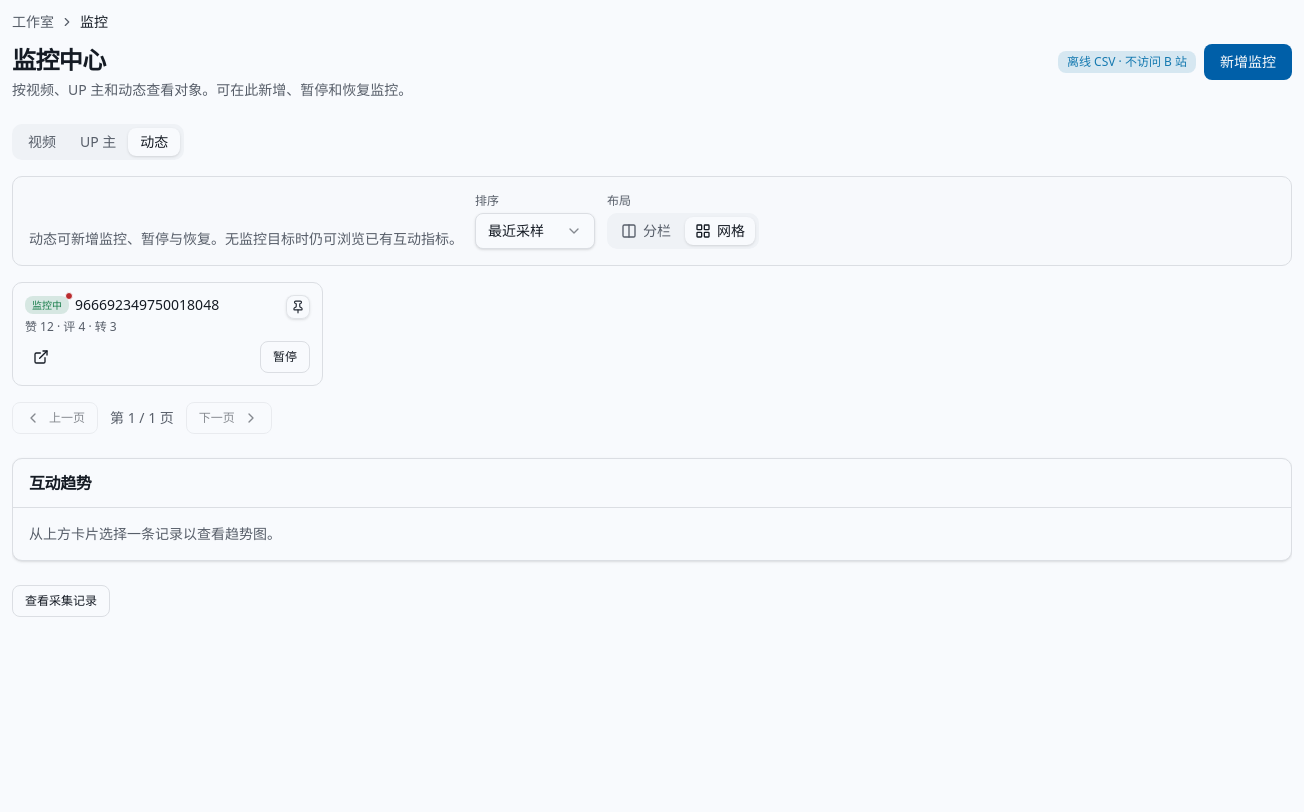
Test: dynamic monitor page › detail page shows recent collect logs from the ops read API
The image size is (1304, 812).
Expected: the element with test id "dynamic-card-failure-dot" is shown, [65, 292, 73, 300]
Expected: the button "监控详情" is not shown
Click the button with aria-label "打开动态". click: (47, 305)
box: [12, 282, 323, 386]
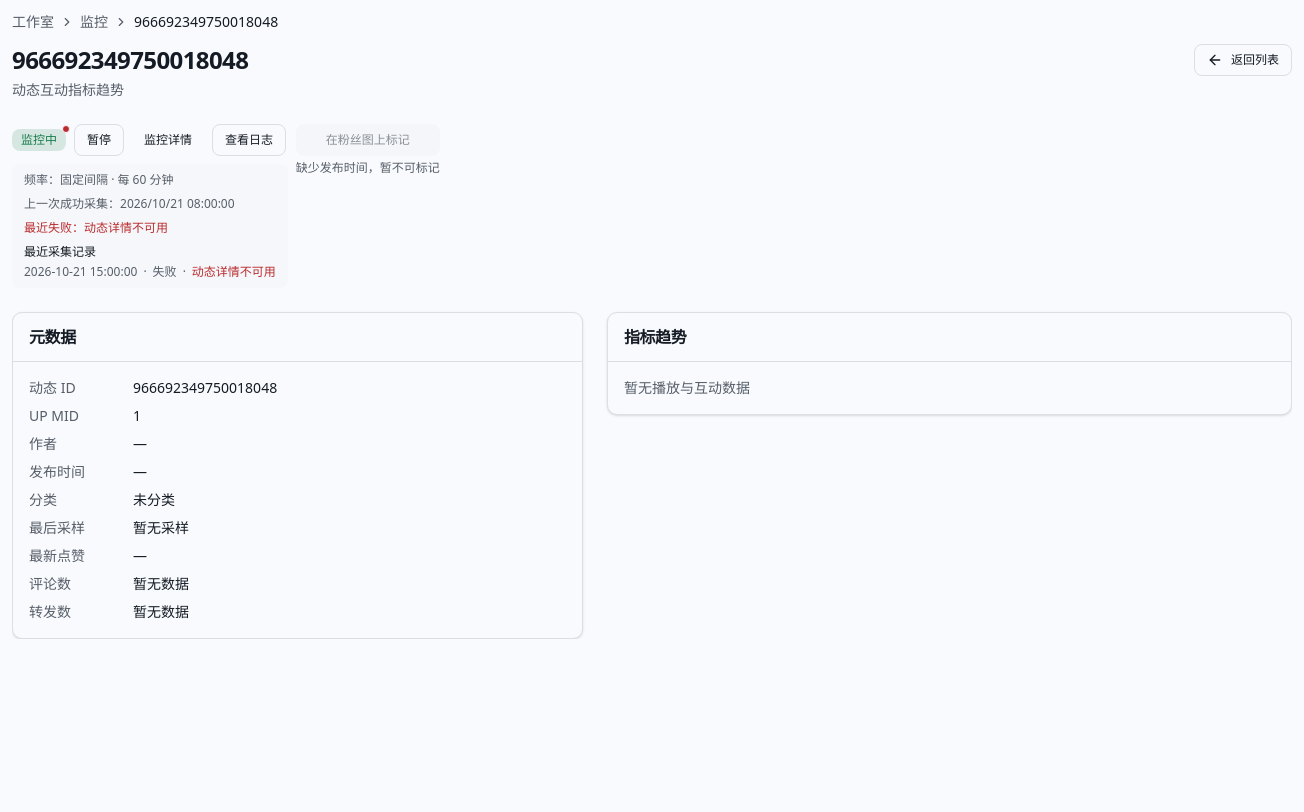
Expected: the element with test id "dynamic-detail-page" is shown
Expected: the text with test id "dynamic-last-failure" shows "动态详情不可用", [84, 219, 168, 236]
Expected: the list with test id "dynamic-collect-logs" shows "失败", [153, 263, 177, 280]
